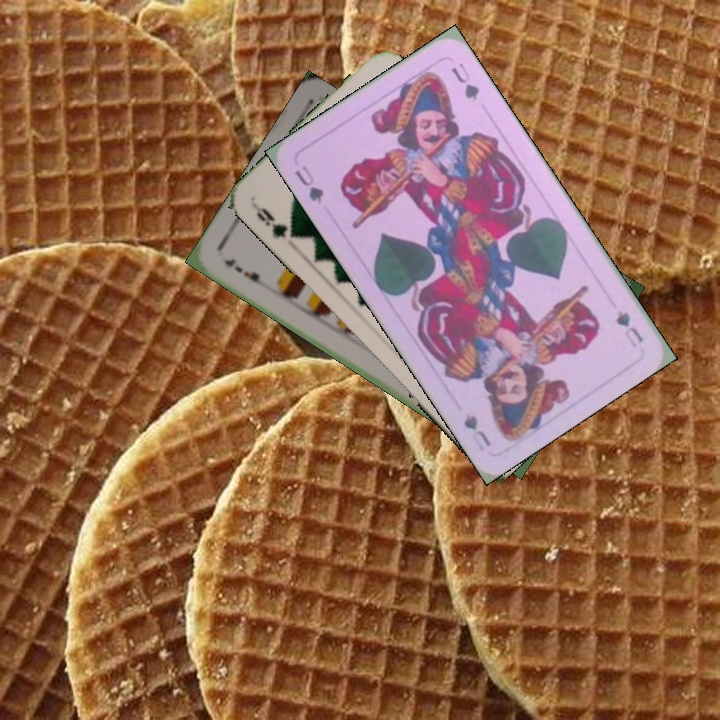E7: (220, 254, 270, 291)
G9: (249, 199, 301, 241)
GU: (290, 161, 327, 206), (611, 306, 646, 350)
